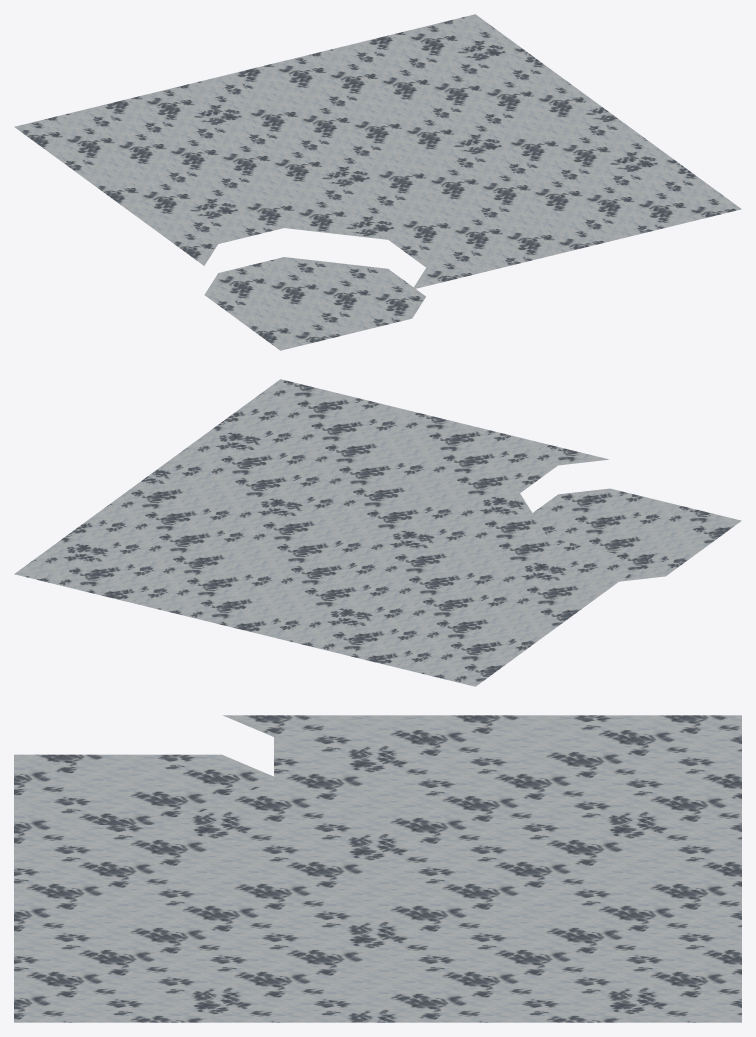
Rendered from oTerrainGroundMap03D.FBX.
The picture shows the model from 3 angles, top to bottom: view 1: azimuth 30°, elevation 25°; view 2: azimuth 150°, elevation 25°; view 3: azimuth 270°, elevation 25°; orthographic projection. The views are drawn at different scales.
Visible parts, largest first — view 1: oTerrainGroundMap03D; view 2: oTerrainGroundMap03D; view 3: oTerrainGroundMap03D.
Boxes of the visible parts, <box> form: oTerrainGroundMap03D: <box>14,14,741,350</box>; oTerrainGroundMap03D: <box>14,379,741,686</box>; oTerrainGroundMap03D: <box>14,715,741,1022</box>.
Size of the model in its own units: 658 by 39.37 by 658.
Materials: 1 (1 with a texture image).
